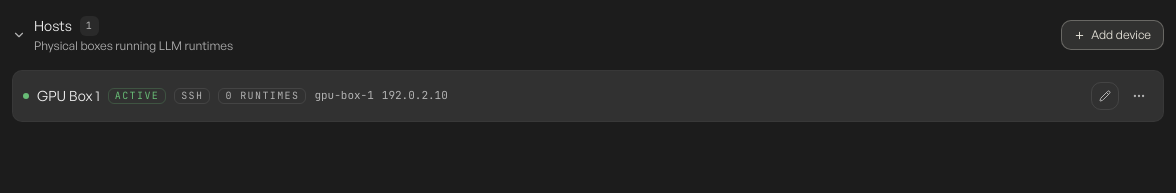
Test: HostsSection › admin sees the add button and gets the 409 guard message on delete
Expected: the button "Add device" is shown, left=1061, top=20, right=1164, bottom=50
Delete is destructive and now sits in the row overflow menu.
Click the button with test id "host-more-gpu-box-1" at (1139, 96), box left=1125, top=82, right=1153, bottom=110
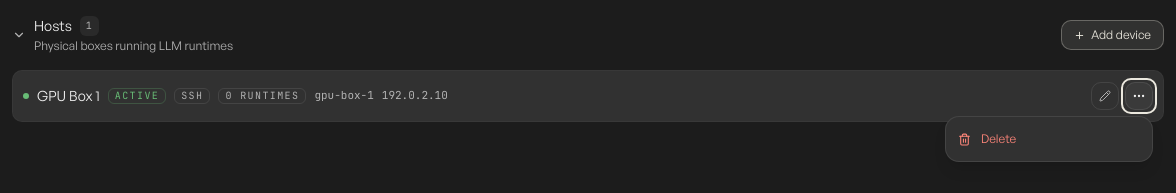
Click the menu item "Delete" at (1049, 139), box left=946, top=123, right=1152, bottom=155
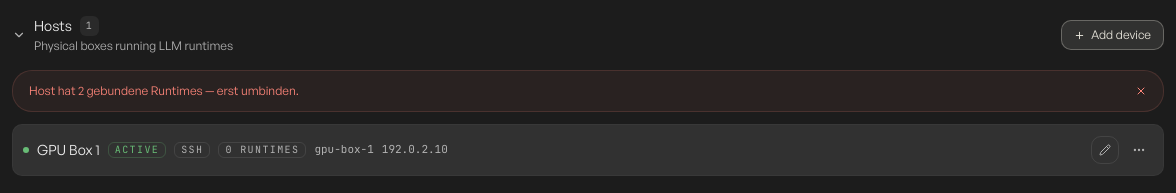
Expected: the text "Host hat 2 gebundene Runtimes — erst umbinden." is shown, left=29, top=83, right=299, bottom=99
